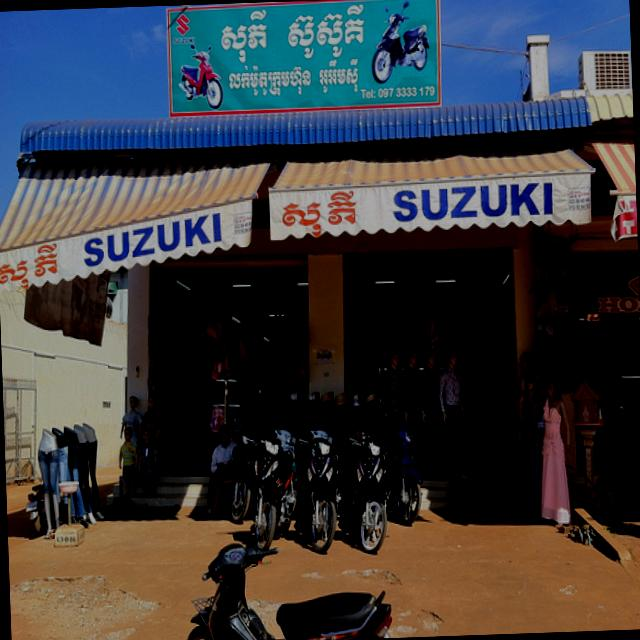Vehicle: (178, 536, 406, 640), (241, 432, 300, 550), (298, 426, 344, 552), (346, 434, 393, 555), (386, 423, 423, 525), (625, 419, 640, 547)
